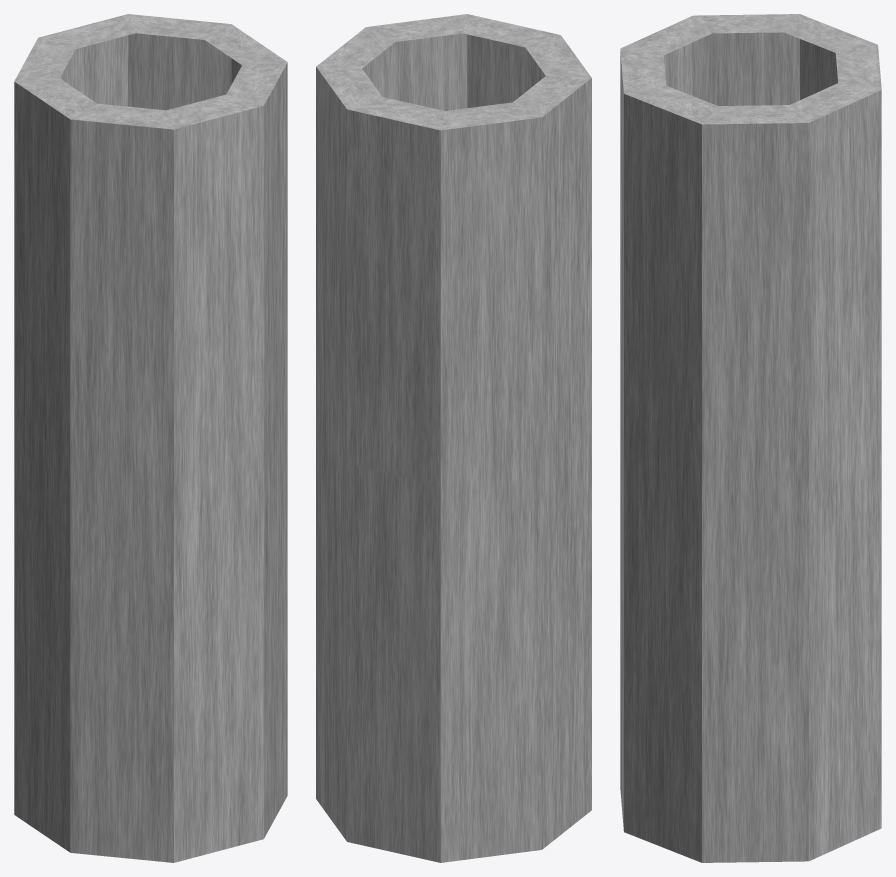
File: light_(pole)_concrete_0_lev3.glb
3 views of the same model, side by side, from view 1: azimuth 30°, elevation 25°; view 2: azimuth 150°, elevation 25°; view 3: azimuth 270°, elevation 25° (orthographic).
Visible parts, largest first — view 1: light_(pole)_concrete_0_lev3; view 2: light_(pole)_concrete_0_lev3; view 3: light_(pole)_concrete_0_lev3.
Part boxes in pixels (x1,y1,x2,y2): light_(pole)_concrete_0_lev3: [14, 14, 287, 862]; light_(pole)_concrete_0_lev3: [316, 14, 591, 862]; light_(pole)_concrete_0_lev3: [620, 14, 881, 862].
Size of the model in its own units: 0.1395 by 0.4347 by 0.1395.
1 material, 1 textured.
